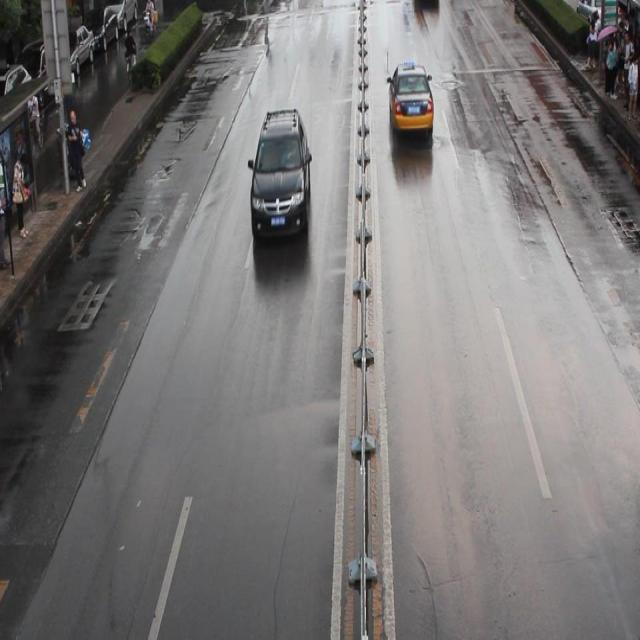car: (250, 108, 310, 237), (388, 62, 433, 134)
